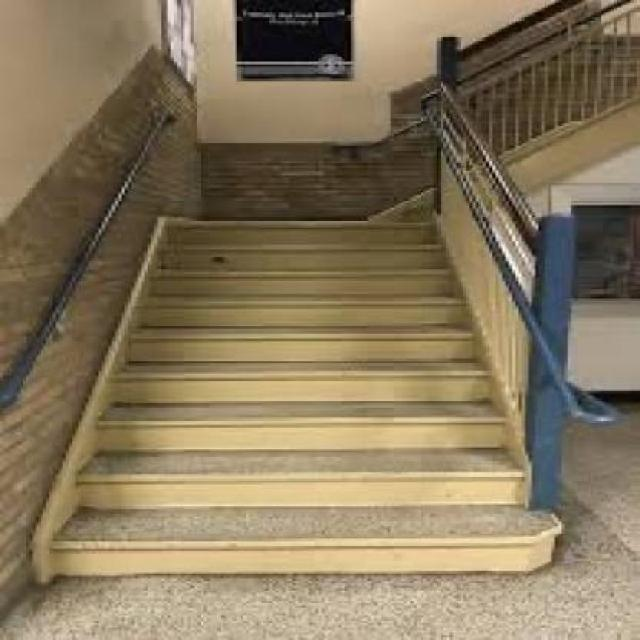stair: (99, 156, 503, 578)
